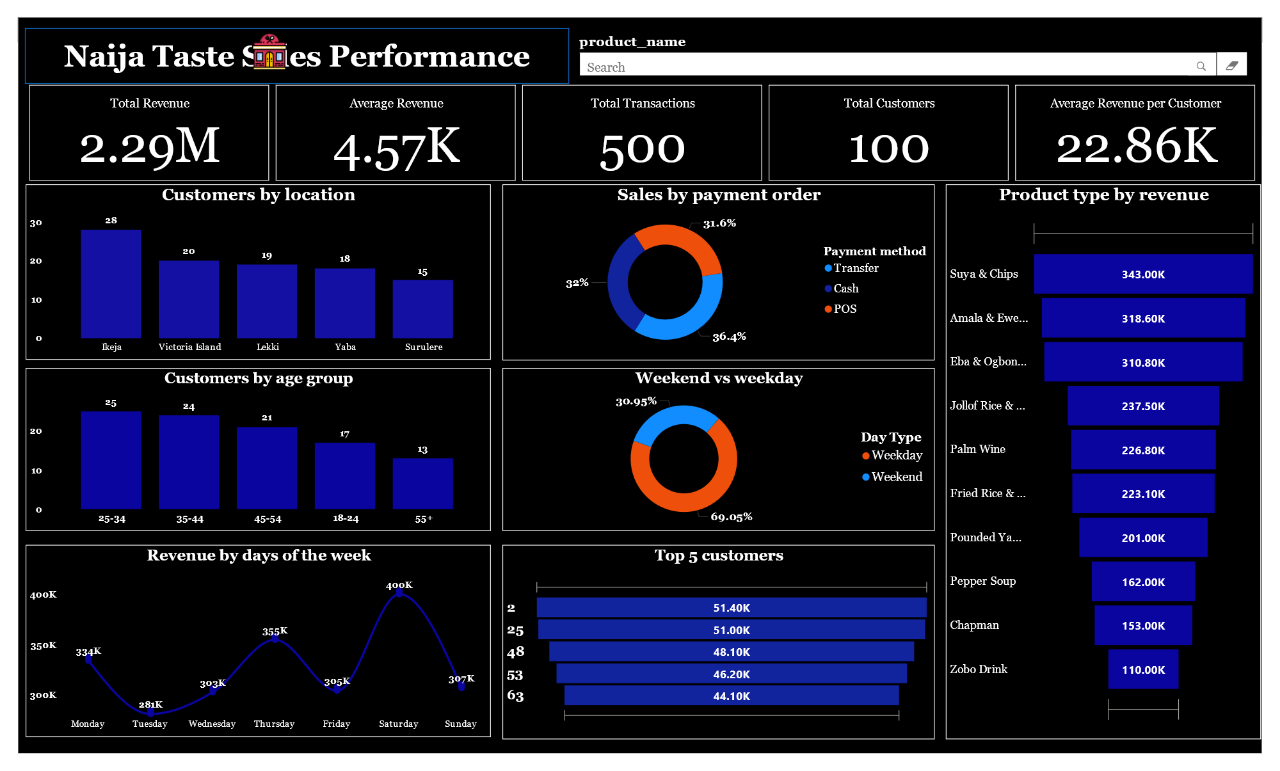

Layout of this report page (visuals, bound fields, positions):
{"tool":"powerbi","page":{"name":"Page 1","canvas":[1700,1006],"ordinal":0},"visuals":[{"type":"shape","box":[0,5,762.3,94.9],"z":0},{"type":"clusteredColumnChart","title":"Customers by location","fields":{"Category":["public customers.location"],"Y":["Count(public customers.customer_id)"]},"box":[10,228,635.8,239.7],"z":1000},{"type":"funnel","title":"Top 5 customers","fields":{"Category":["public customers.customer_id"],"Y":["Sum(public sales.total_price)"]},"box":[662.5,720.7,590.9,266.3],"z":2000},{"type":"clusteredColumnChart","title":"Customers by age group","fields":{"Category":["public customers.Age Group"],"Y":["Count(public customers.customer_id)"]},"box":[10,479.4,635.8,223],"z":3000},{"type":"funnel","title":"Product type by revenue","fields":{"Category":["public products.product_name"],"Y":["public sales.Total Price"]},"box":[1268.3,228,431.1,759],"z":4000},{"type":"donutChart","title":"Sales by payment order","fields":{"Category":["public sales.payment_method"],"Y":["Count(public sales.sale_id)"]},"box":[662.5,228,590.9,241.4],"z":5000},{"type":"areaChart","title":"Revenue by days of the week","fields":{"Category":["public sales.Day of Week"],"Y":["public sales.Total Price"]},"box":[10,720.7,635.8,263],"z":6000},{"type":"donutChart","title":"Weekend vs weekday","fields":{"Category":["public sales.Day Type"],"Y":["Sum(public sales.total_price)"]},"box":[662.5,479.4,590.9,223],"z":7000},{"type":"image","box":[303.7,16.1,78.1,60.7],"z":13000},{"type":"image","box":[1304.1,16.1,102.9,67],"z":14000},{"type":"cardVisual","fields":{"Data":["public sales.Total Revenue","public sales.Average Revenue","public sales.Total Transactions","public customers.Total Customers","public customers.Average Revenue per Customer"]},"box":[10,86.6,1689.5,141.5],"z":14001},{"type":"textFilter25A4896A83E0487089E2B90C9AE57C8A","fields":{"field":["public products.product_name"]},"box":[759,16.6,928.8,69.9],"z":14002}]}

Visuals, with their boxes in screenshot pixels (x1, y1, x2, y2), scaled from the page's 1700x1006 canvas onto the 1280x771 screenshot:
shape: region(0, 4, 574, 77)
"Customers by location" clusteredColumnChart: region(8, 175, 486, 358)
"Top 5 customers" funnel: region(499, 552, 944, 756)
"Customers by age group" clusteredColumnChart: region(8, 367, 486, 538)
"Product type by revenue" funnel: region(955, 175, 1279, 756)
"Sales by payment order" donutChart: region(499, 175, 944, 360)
"Revenue by days of the week" areaChart: region(8, 552, 486, 754)
"Weekend vs weekday" donutChart: region(499, 367, 944, 538)
image: region(229, 12, 287, 59)
image: region(982, 12, 1059, 64)
cardVisual - public sales.Total Revenue x public sales.Average Revenue: region(8, 66, 1279, 175)
textFilter25A4896A83E0487089E2B90C9AE57C8A - public products.product_name: region(571, 13, 1271, 66)
